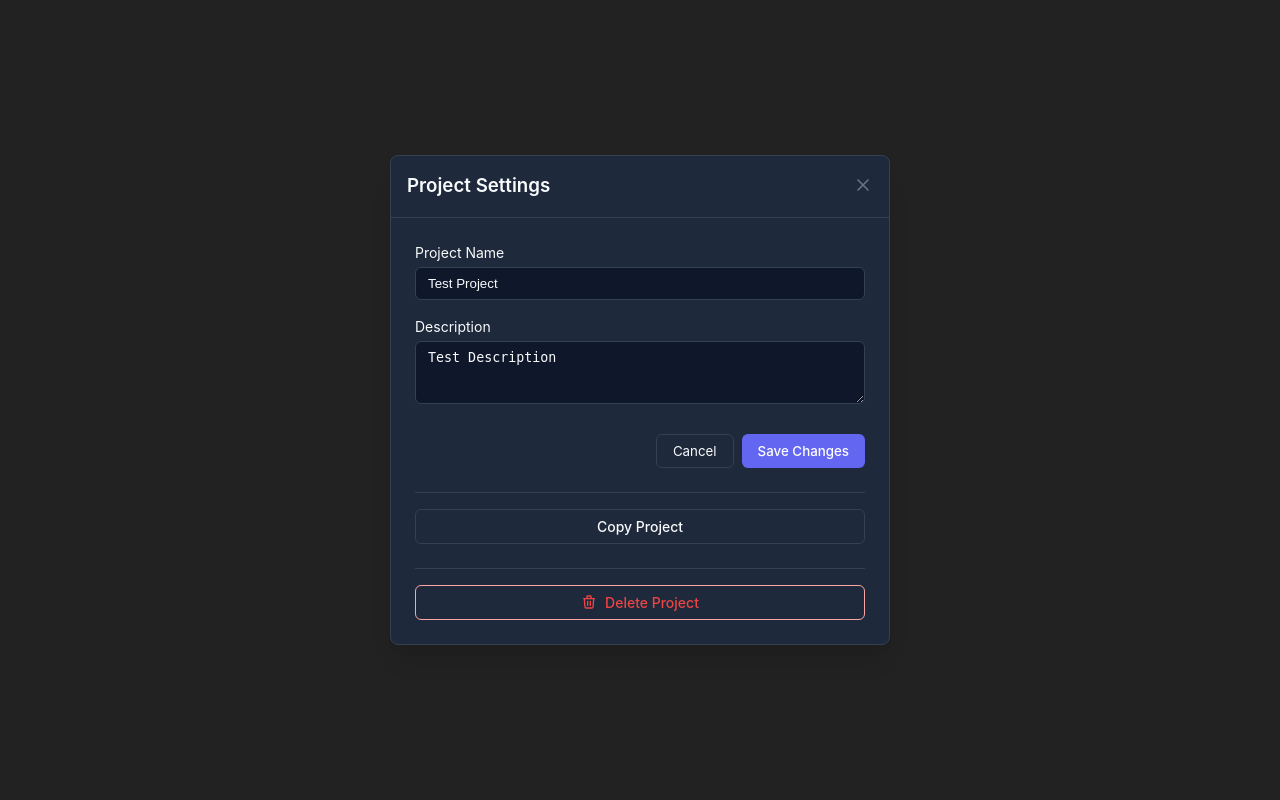
Scenario: ProjectSettingsModal › Copy Project › should close copy dialog when cancelled
The image size is (1280, 800).
Open copy dialog
Click the button "Copy Project" at (640, 526), box [415,508,865,544]
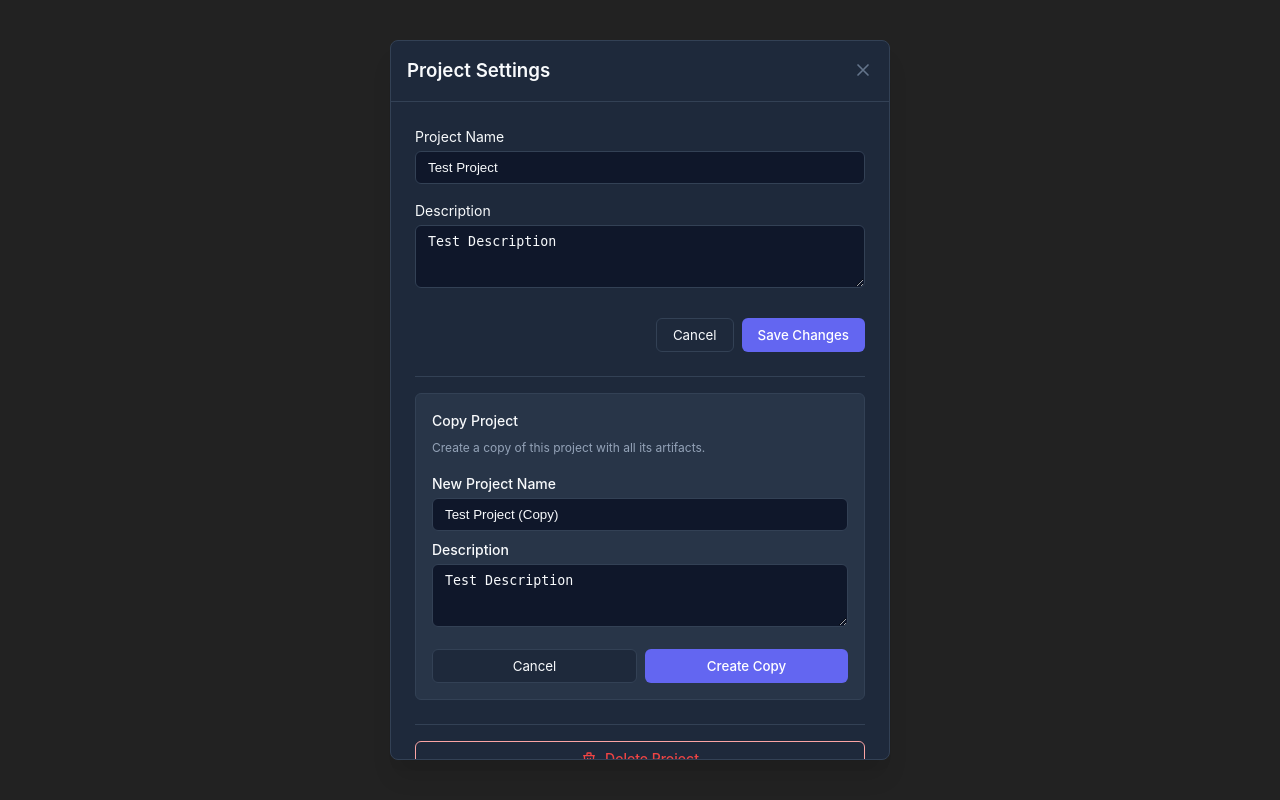
Check: the text "Create a copy of this project with all its artifacts." is shown, box [432,440,705,455]
Click Cancel in copy dialog (get all Cancel buttons, the last one is in copy dialog)
Click the button "Cancel" below "New Project Name" at (534, 666), box [432,649,637,683]
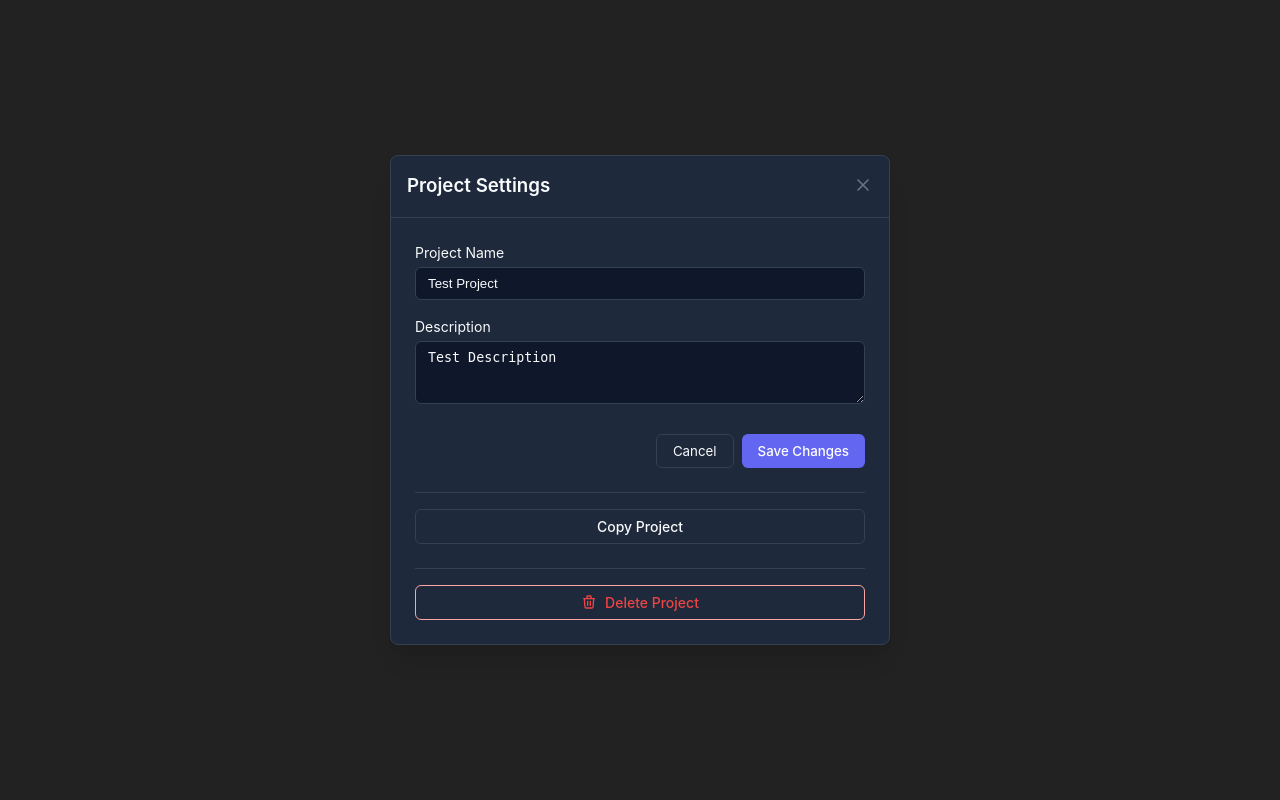
Check: the heading "Project Settings" is shown, box [407,172,550,201]
Check: the text "Create a copy" is gone
